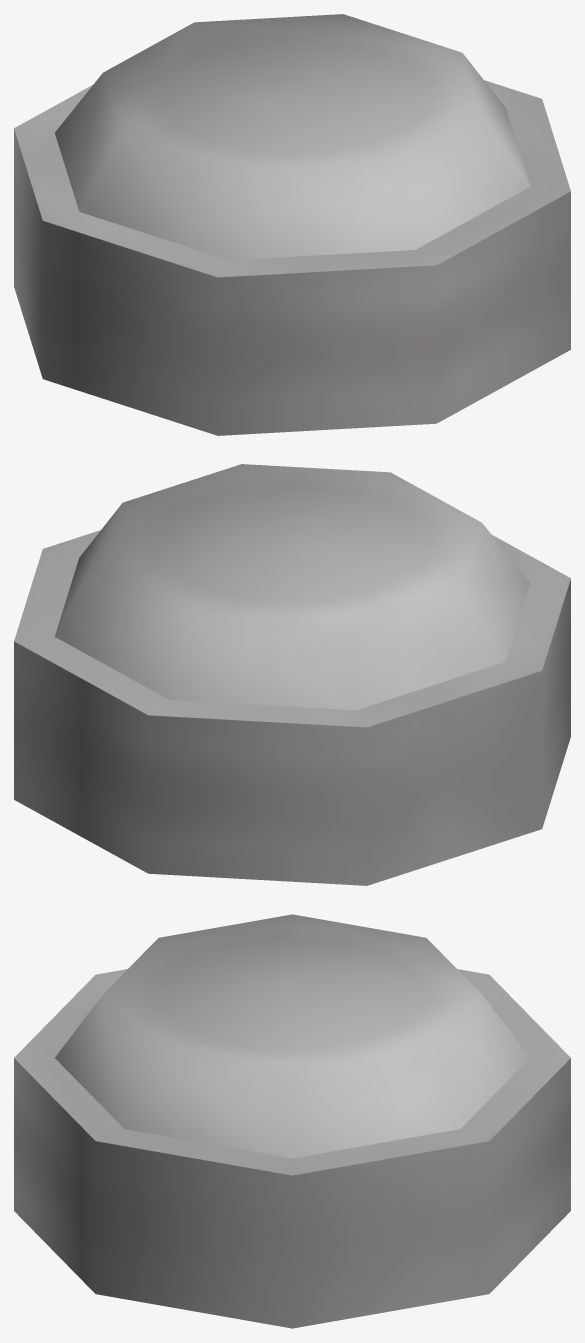
File: Pipe_End.fbx
The picture shows the model from 3 angles, top to bottom: view 1: azimuth 30°, elevation 25°; view 2: azimuth 150°, elevation 25°; view 3: azimuth 270°, elevation 25°; orthographic projection. The views are drawn at different scales.
Visible parts, largest first — view 1: Mat_Pipe_01; view 2: Mat_Pipe_01; view 3: Mat_Pipe_01.
Boxes of the visible parts, x1=… form: Mat_Pipe_01: x1=14, y1=14, x2=570, y2=435; Mat_Pipe_01: x1=14, y1=464, x2=570, y2=885; Mat_Pipe_01: x1=14, y1=914, x2=570, y2=1328.
Size of the model in its own units: 0.3771 by 0.1617 by 0.3771.
Materials: 1 (1 with a texture image).
